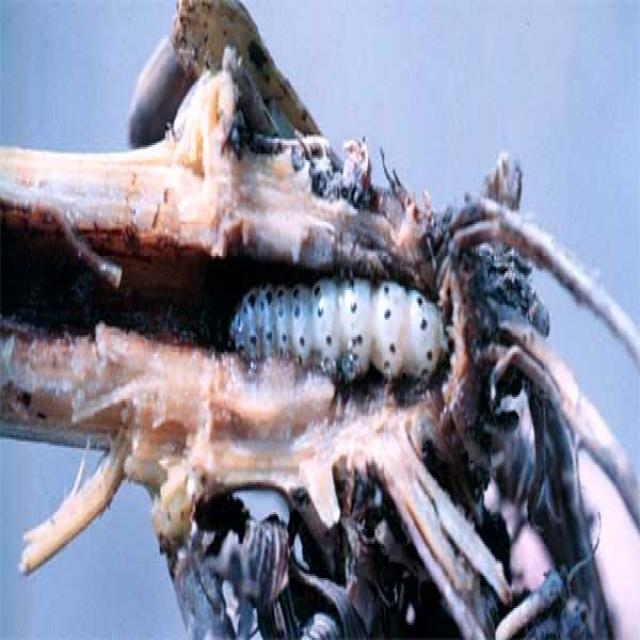cornborer-Larva-: (222, 257, 459, 418)
